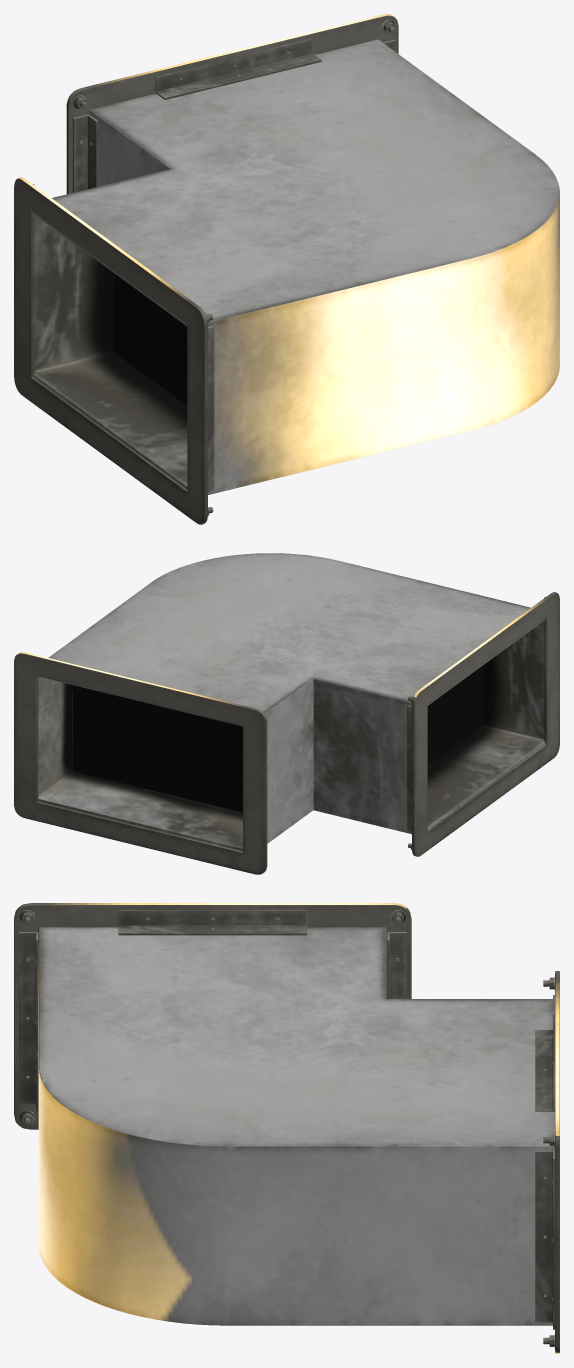
Rendered from SM_Ventilation_Set_02a.fbx.
The picture shows the model from 3 angles, top to bottom: view 1: azimuth 30°, elevation 25°; view 2: azimuth 150°, elevation 25°; view 3: azimuth 270°, elevation 25°; orthographic projection. The views are drawn at different scales.
Visible parts, largest first — view 1: SM_Ventilation_Set_02a_LOD0; view 2: SM_Ventilation_Set_02a_LOD0; view 3: SM_Ventilation_Set_02a_LOD0.
Part boxes in pixels (box(x1,y1,x2,y2)): SM_Ventilation_Set_02a_LOD0: box(14, 14, 559, 524); SM_Ventilation_Set_02a_LOD0: box(14, 553, 559, 874); SM_Ventilation_Set_02a_LOD0: box(14, 903, 559, 1353).
Size of the model in its own units: 110 by 110 by 50.
